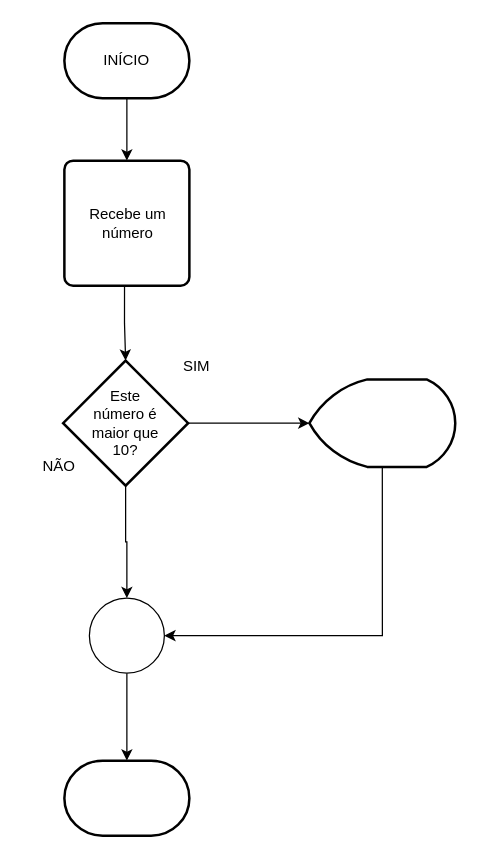
This 478x858 diagram has some shape labels left out. The shapes that lost their labels are listed below. From the top down, each one's box as (x1, y1, x2, y2) in pixels, then its label:
(308, 378, 456, 468): Exibir mensagem que o número é maio que 10
(62, 759, 190, 836): FIM
